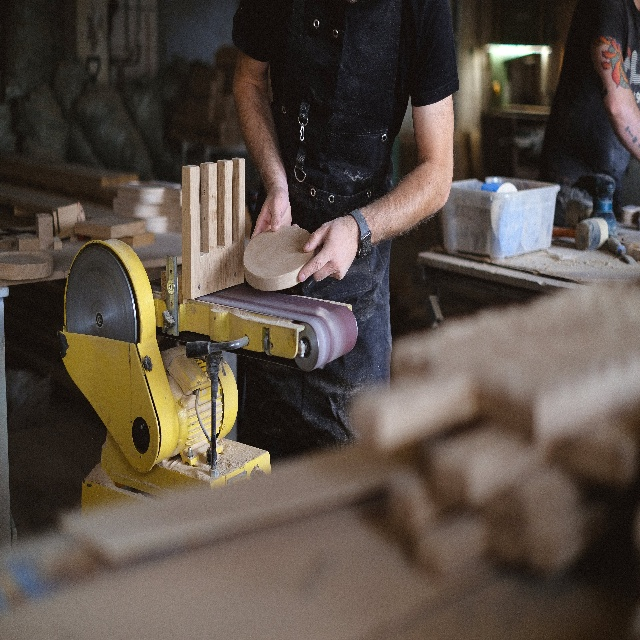Sin_guantes: (296, 212, 362, 285), (249, 179, 299, 240)
